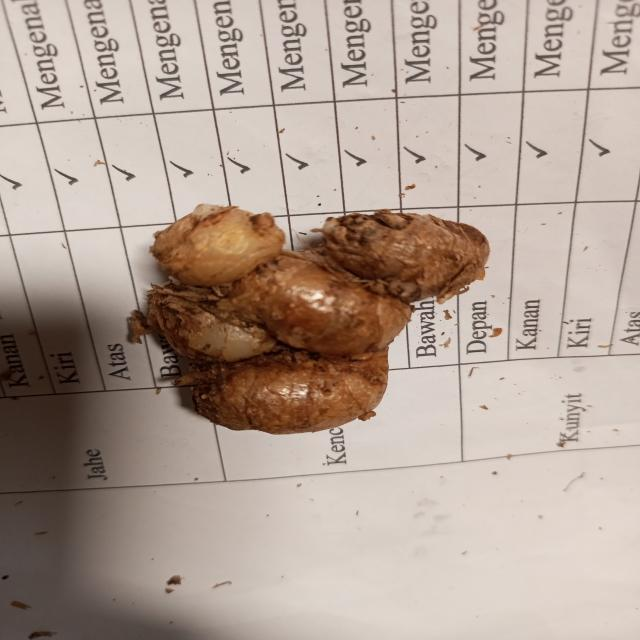ginger: (154, 195, 485, 428)
